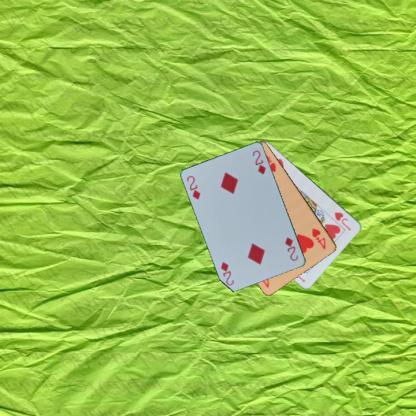2d: (184, 172, 203, 202), (282, 235, 300, 262)
4h: (309, 226, 327, 250)
Jh: (332, 209, 352, 232)
